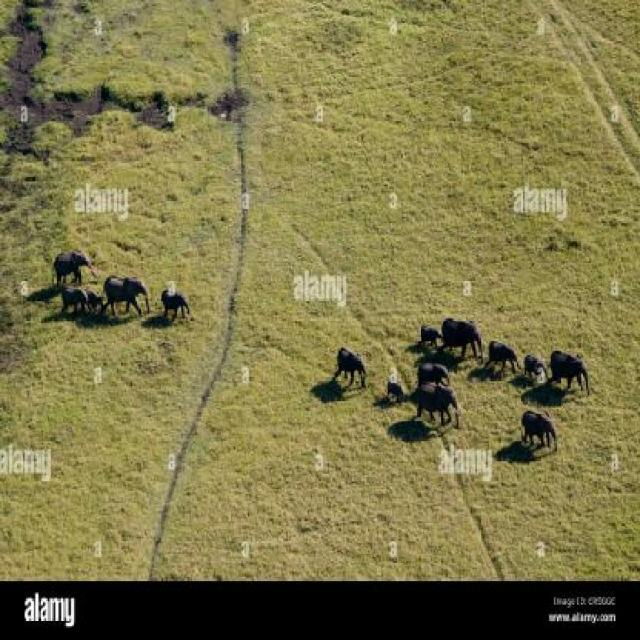elephant: (505, 405, 564, 466), (412, 382, 465, 436), (105, 264, 152, 318), (442, 315, 486, 370), (50, 238, 93, 292), (330, 333, 367, 392), (546, 346, 596, 388), (484, 330, 518, 385), (158, 276, 198, 316), (64, 286, 96, 325), (416, 357, 442, 405), (524, 339, 550, 384), (384, 367, 405, 405), (417, 318, 441, 350)
